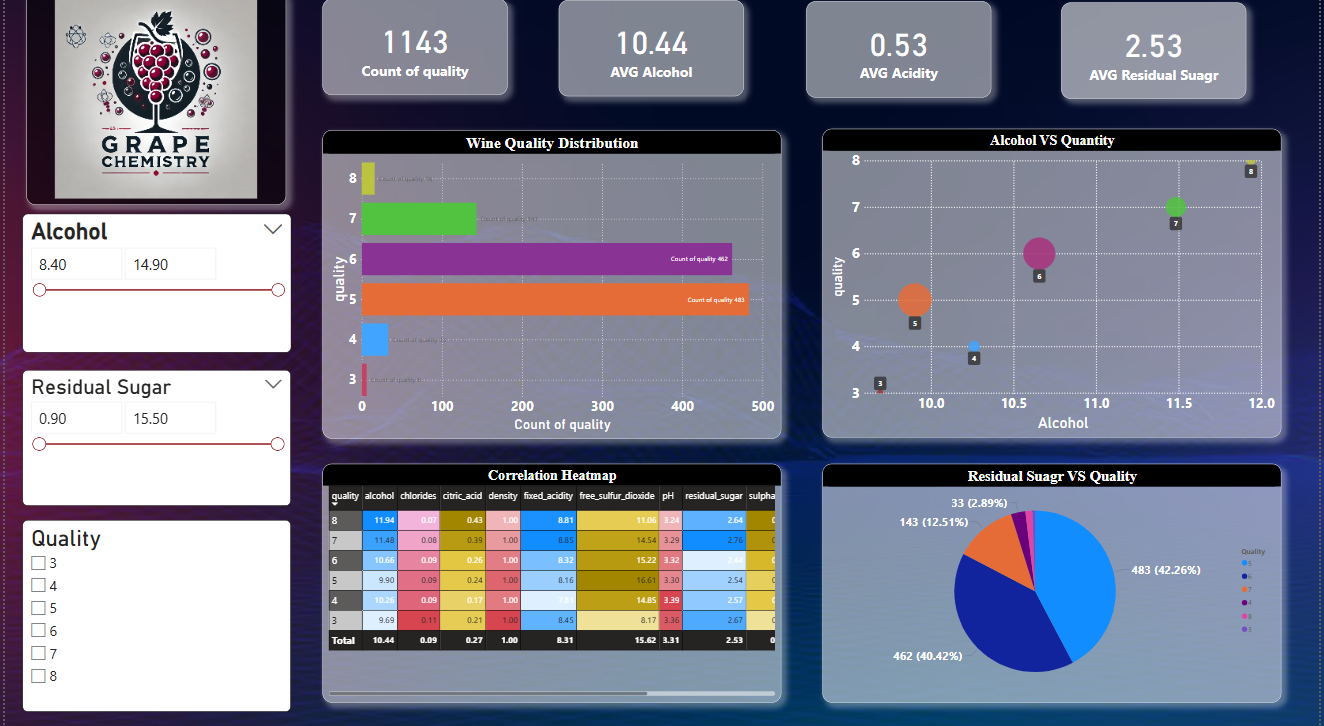

Layout of this report page (visuals, bound fields, positions):
{"tool":"powerbi","page":{"name":"dashboard","canvas":[2500,1400],"ordinal":0},"visuals":[{"type":"card","title":"Average Alcohol","fields":{"Values":["Avg(wine_sql wine.alcohol)"]},"box":[1053.3,19,351.9,183.1],"z":0},{"type":"card","title":"Average Acidity","fields":{"Values":["Avg(wine_sql wine.volatile_acidity)"]},"box":[1524.1,21.4,351.9,183.1],"z":1000},{"type":"card","title":"Average Sugar","fields":{"Values":["Avg(wine_sql wine.residual_sugar)"]},"box":[2009.2,23.8,351.9,183.1],"z":2000},{"type":"card","title":"Total Wines Analyzed","fields":{"Values":["CountNonNull(wine_sql wine.quality)"]},"box":[603.9,16.6,351.9,183.1],"z":3000},{"type":"slicer","fields":{"Values":["wine_sql wine.alcohol"]},"box":[33.3,425.6,511.2,263.9],"z":4000},{"type":"slicer","fields":{"Values":["wine_sql wine.quality"]},"box":[33.1,1007.6,510.4,364.6],"z":5000},{"type":"slicer","fields":{"Values":["wine_sql wine.residual_sugar"]},"box":[33.1,722.6,510.4,258.5],"z":6000},{"type":"barChart","title":"Wine Quality Distribution","fields":{"Category":["wine_sql wine.quality"],"Y":["CountNonNull(wine_sql wine.quality)"]},"box":[603.9,266.3,872.6,587.3],"z":7000},{"type":"scatterChart","title":"Alcohol VS Quantity","fields":{"X":["Avg(wine_sql wine.alcohol)"],"Y":["wine_sql wine.quality"],"Size":["Sum(wine_sql wine.residual_sugar)"]},"box":[1555,263.9,872.6,587.3],"z":8000},{"type":"pivotTable","title":"Correlation Heatmap","fields":{"Rows":["wine_sql wine.quality"],"Values":["Avg(wine_sql wine.alcohol)","Avg(wine_sql wine.chlorides)","Avg(wine_sql wine.citric_acid)","Avg(wine_sql wine.density)","Avg(wine_sql wine.fixed_acidity)","Avg(wine_sql wine.free_sulfur_dioxide)","Avg(wine_sql wine.pH)","Avg(wine_sql wine.residual_sugar)","Avg(wine_sql wine.sulphates)","Avg(wine_sql wine.total_sulfur_dioxide)","Avg(wine_sql wine.volatile_acidity)"]},"box":[603.9,901.2,872.6,454.1],"z":9000},{"type":"pieChart","title":"Residual Suagr VS Quality","fields":{"Category":["wine_sql wine.quality"],"Y":["CountNonNull(wine_sql wine.residual_sugar)"]},"box":[1555,901.2,872.6,454.1],"z":10000},{"type":"image","box":[40.4,0,494.6,409],"z":11000}]}

Visuals, with their boxes in screenshot pixels (x1, y1, x2, y2), scaled from the page's 2500x1400 canvas onto the 1324x726 screenshot:
"Average Alcohol" card: [x1=558, y1=10, x2=744, y2=105]
"Average Acidity" card: [x1=807, y1=11, x2=994, y2=106]
"Average Sugar" card: [x1=1064, y1=12, x2=1250, y2=107]
"Total Wines Analyzed" card: [x1=320, y1=9, x2=506, y2=104]
slicer - wine_sql wine.alcohol: [x1=18, y1=221, x2=288, y2=358]
slicer - wine_sql wine.quality: [x1=18, y1=523, x2=288, y2=712]
slicer - wine_sql wine.residual_sugar: [x1=18, y1=375, x2=288, y2=509]
"Wine Quality Distribution" barChart: [x1=320, y1=138, x2=782, y2=443]
"Alcohol VS Quantity" scatterChart: [x1=824, y1=137, x2=1286, y2=441]
"Correlation Heatmap" pivotTable: [x1=320, y1=467, x2=782, y2=703]
"Residual Suagr VS Quality" pieChart: [x1=824, y1=467, x2=1286, y2=703]
image: [x1=21, y1=0, x2=283, y2=212]
